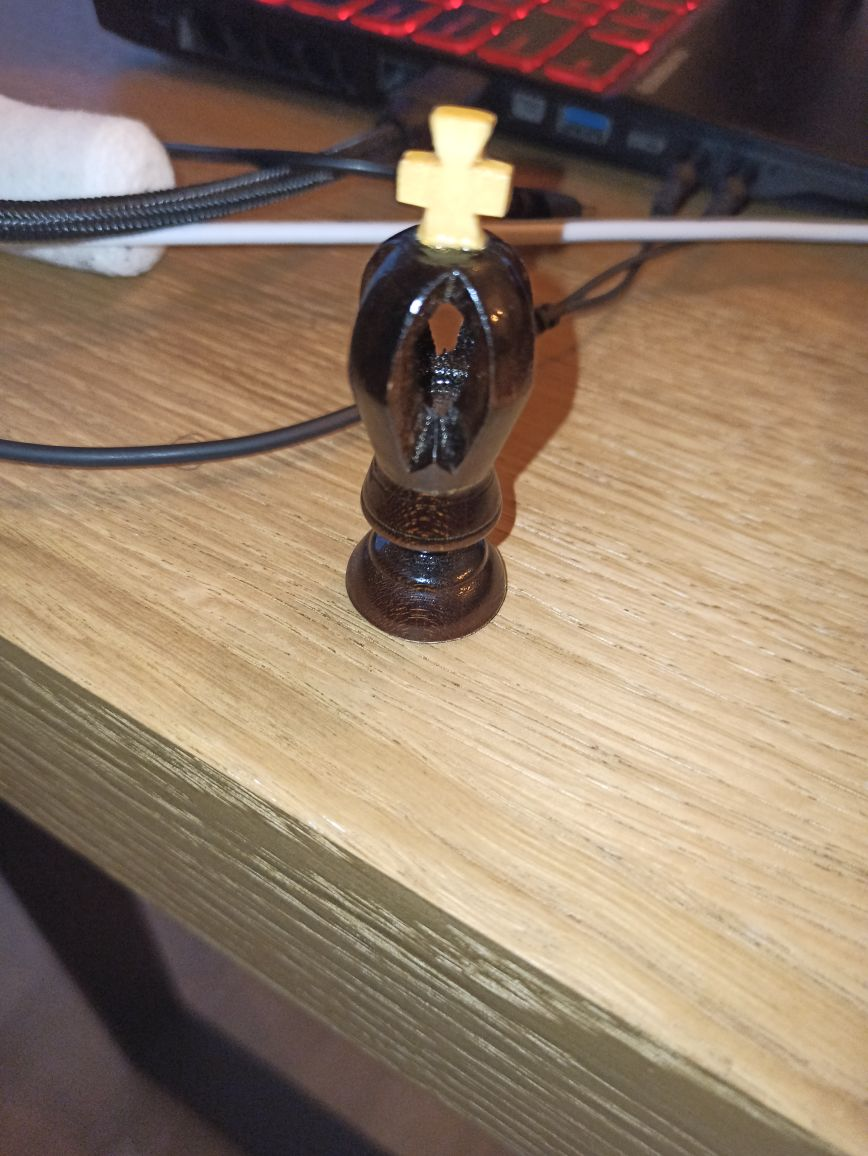bking: (346, 104, 536, 639)
